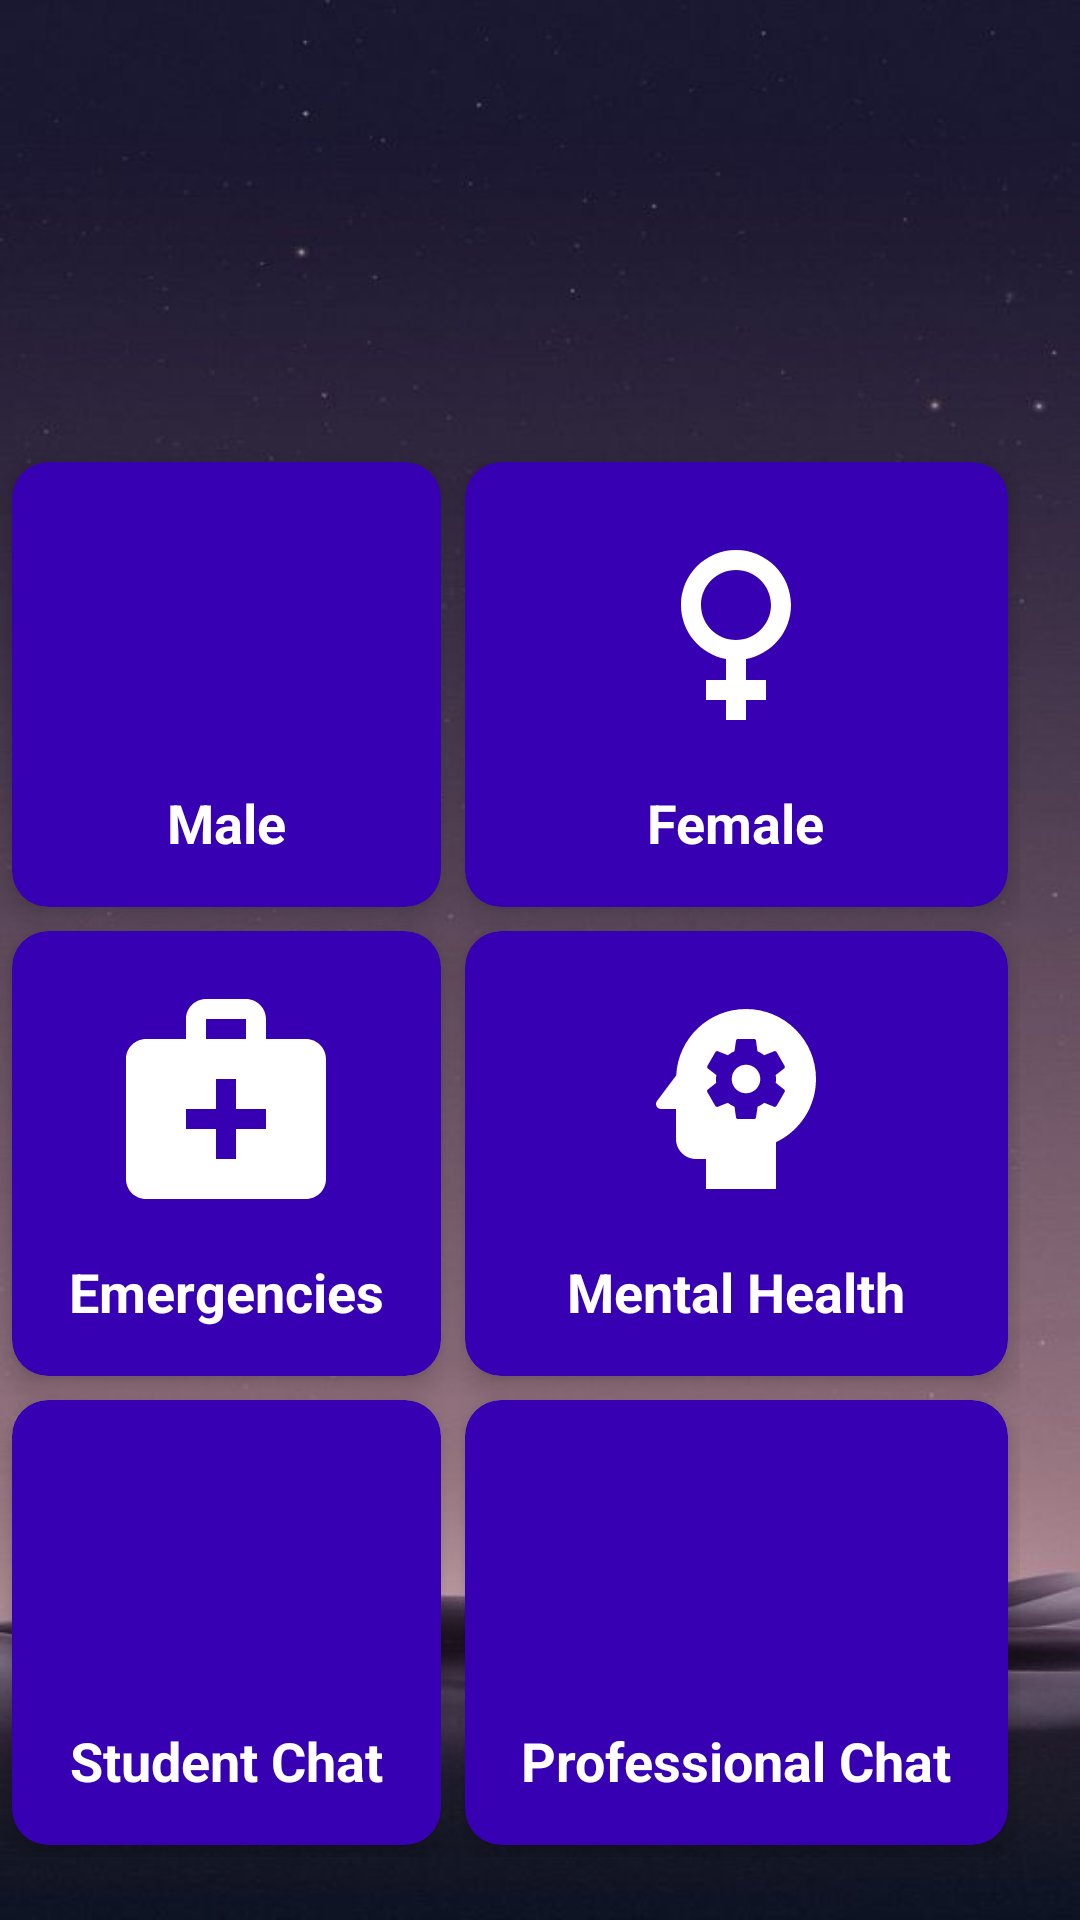

Icons on this 1080 × 1920 Android screen, each with its box as (x1, y1, x2, y2):
medical services: (126, 999, 326, 1199)
psychology: (656, 1009, 816, 1189)
